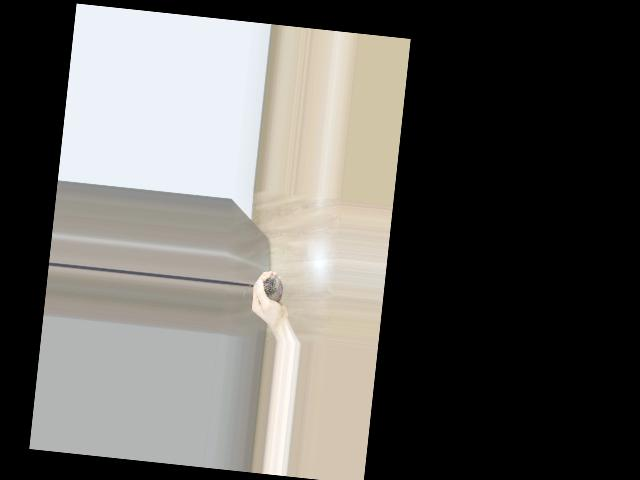beet: (242, 271, 284, 303)
